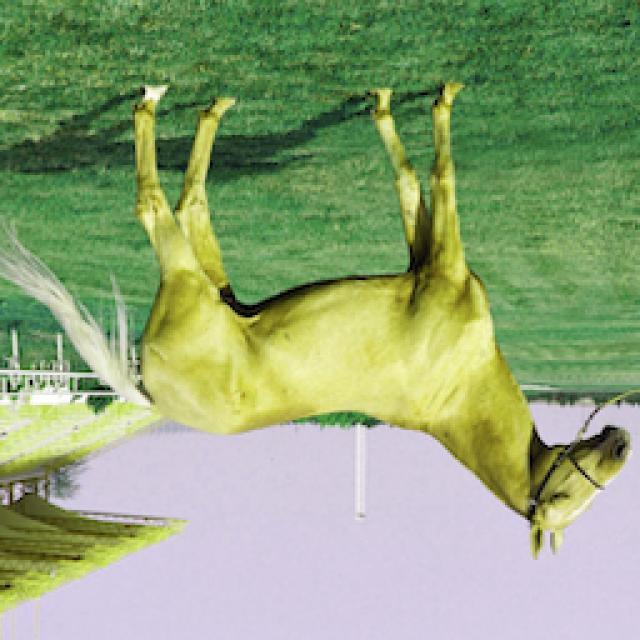Horse: (2, 75, 640, 565)
